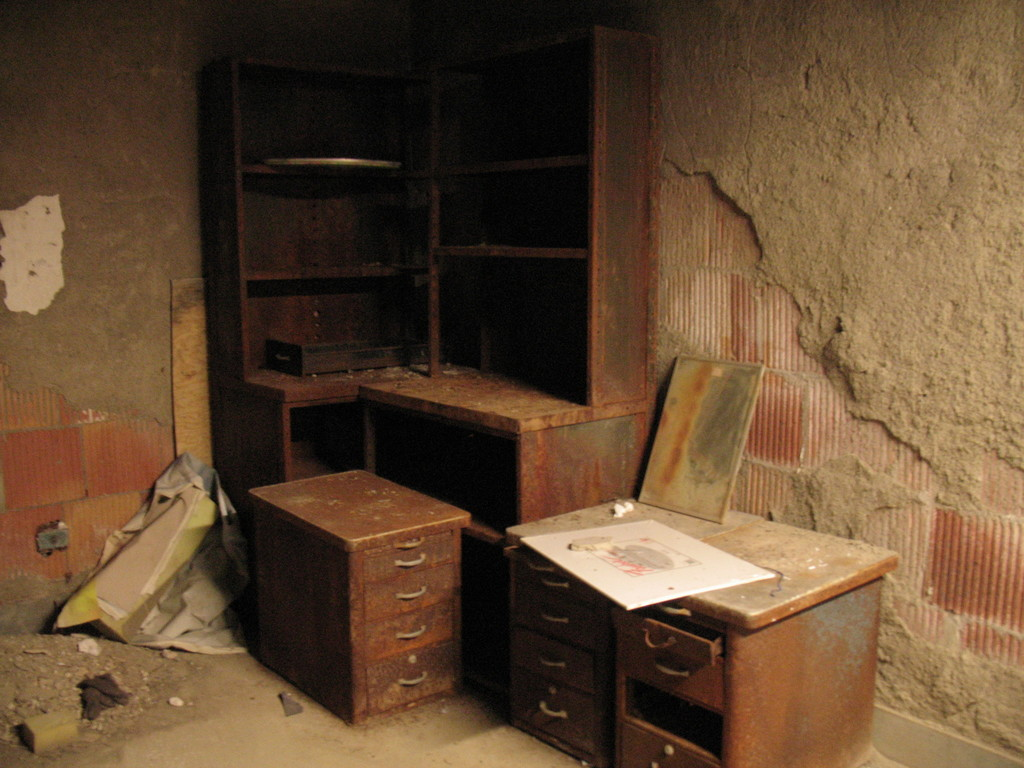cabinet door: (633, 658, 726, 706), (530, 631, 605, 686), (626, 722, 706, 768), (379, 650, 458, 694), (371, 573, 454, 614), (625, 621, 710, 660), (372, 538, 454, 577), (521, 682, 591, 726), (519, 599, 600, 634), (388, 610, 452, 647)
handle: (530, 695, 570, 720), (536, 606, 574, 631), (655, 660, 692, 685), (387, 545, 428, 567), (542, 658, 579, 681), (397, 669, 433, 692), (395, 585, 429, 606), (395, 622, 426, 643), (646, 631, 668, 653)
